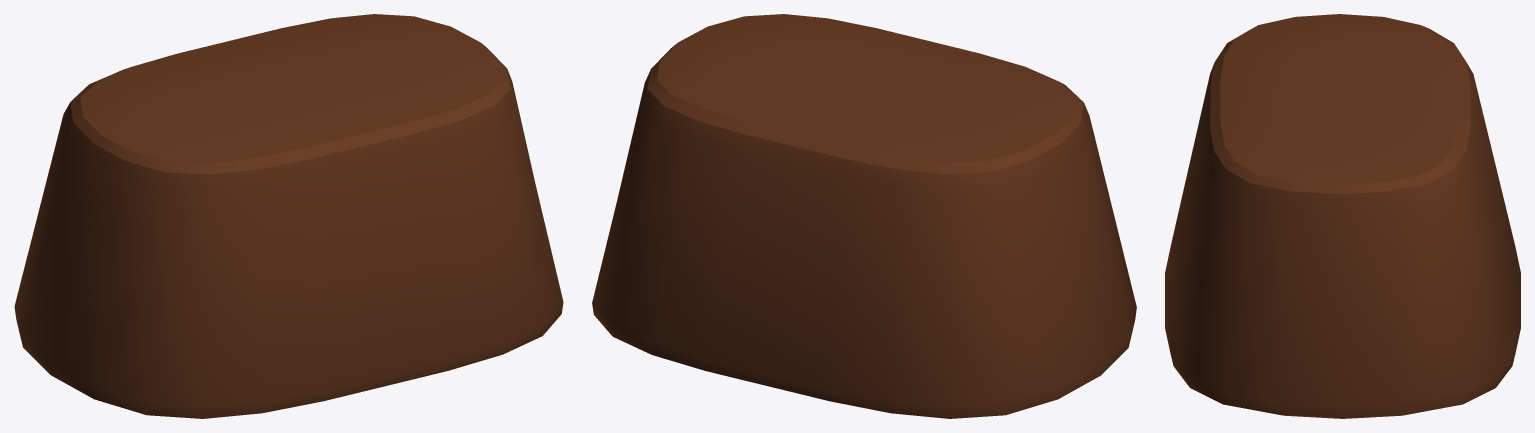
The model's file is coastal-cliff.glb.
The picture shows the model from 3 angles, left to right: view 1: azimuth 30°, elevation 25°; view 2: azimuth 150°, elevation 25°; view 3: azimuth 270°, elevation 25°; orthographic projection. The views are drawn at different scales.
Visible parts, largest first — view 1: coastal-cliff; view 2: coastal-cliff; view 3: coastal-cliff.
Part boxes in pixels (left/top/right/bottom): coastal-cliff: left=14, top=14, right=563, bottom=418; coastal-cliff: left=592, top=14, right=1136, bottom=418; coastal-cliff: left=1165, top=14, right=1520, bottom=418.
Bounding box in the file's own units: 7.38 × 3.63 × 5.16.
1 material, 1 textured.
